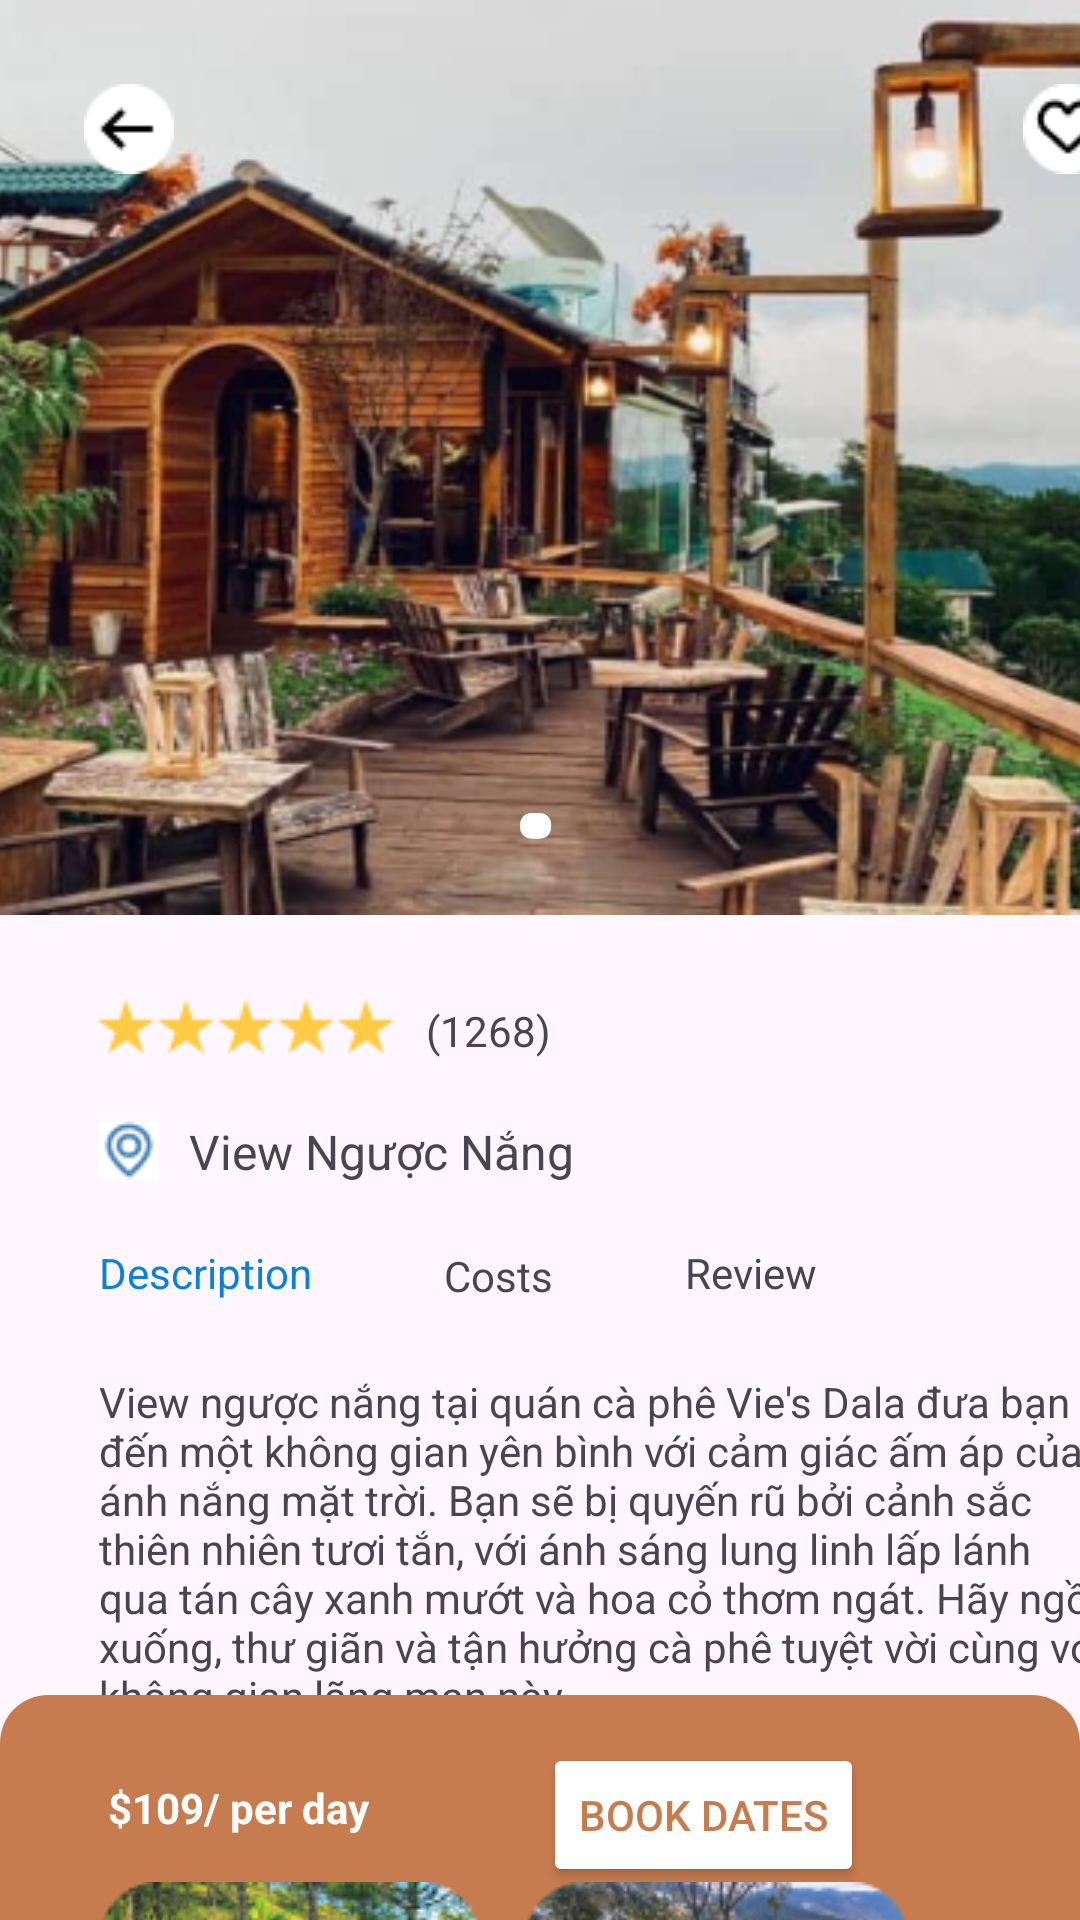

Named icons in this screenshot (1080×1920) and their bounding boxes, [x1=x1, y1=y1, x2=x2, y2=y2]:
back: [x1=84, y1=84, x2=174, y2=174]
pin: [x1=104, y1=1122, x2=154, y2=1178]
rating: [x1=98, y1=1001, x2=394, y2=1054]
